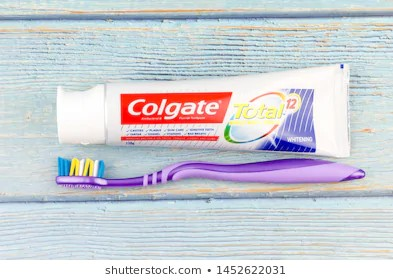colgate-total-150gm: (55, 60, 353, 148)
toothbrush: (55, 146, 369, 195)
